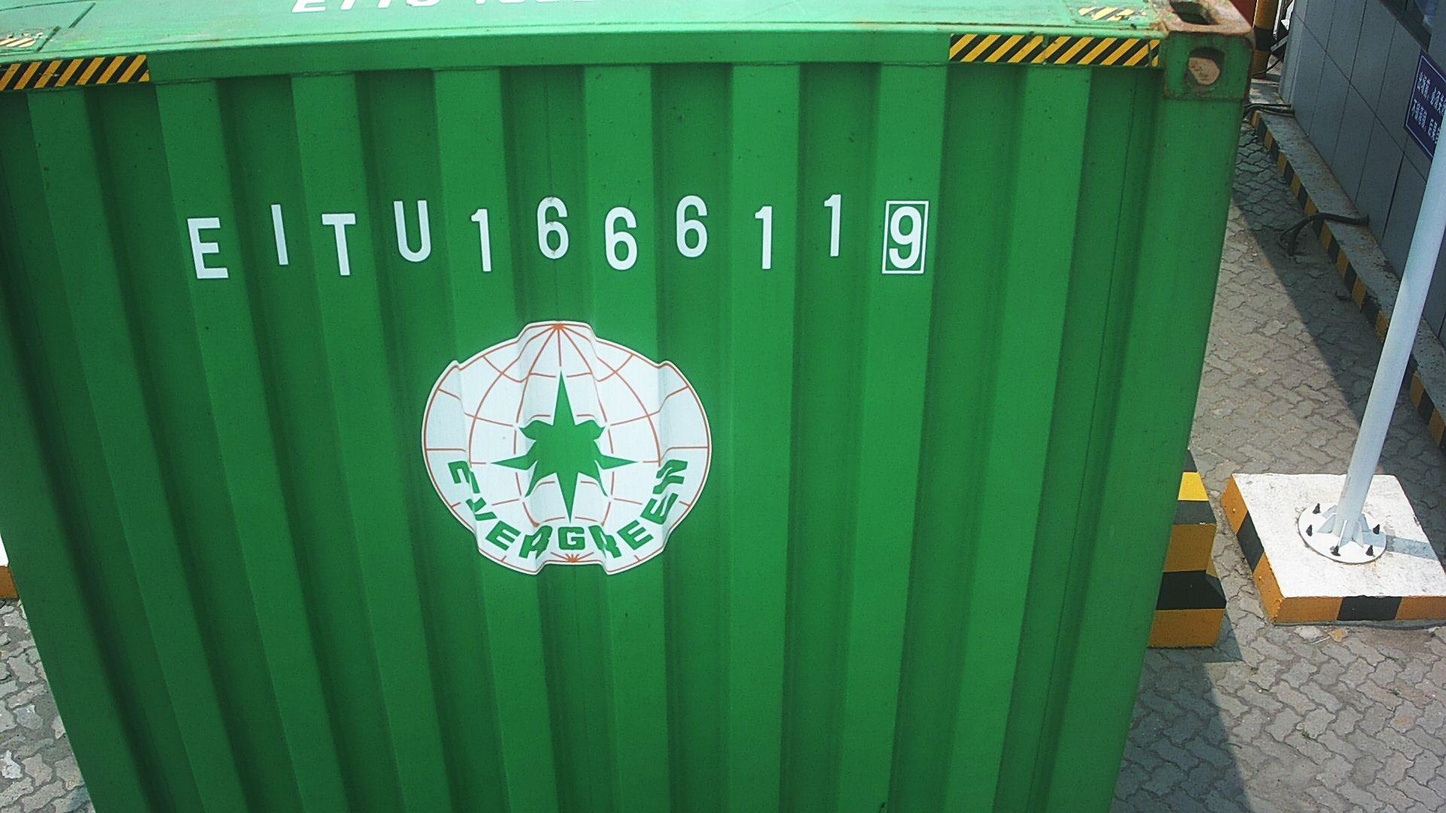container-numbers: (178, 187, 935, 290)
